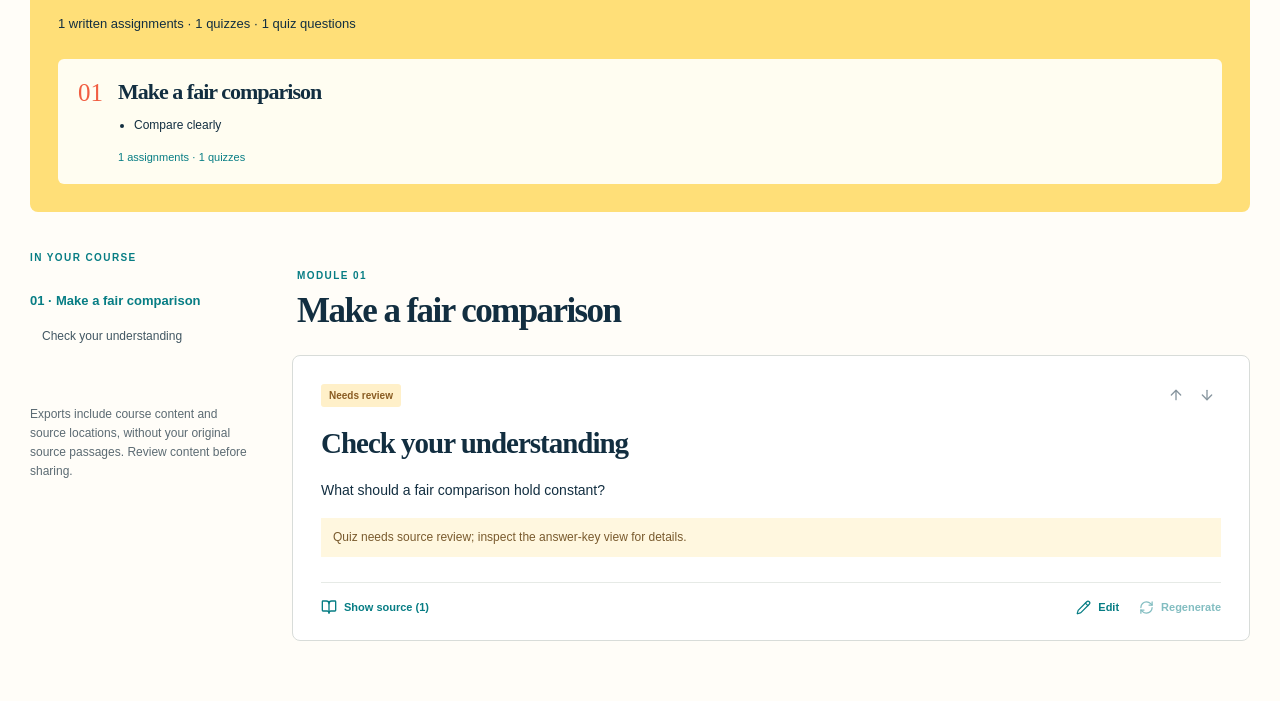
Test: course review safeguards › shows quiz source locations without answer-revealing quotations in learner view
(page scrolled)
Click the button "Show source (1)" at (375, 607), box [321, 599, 429, 615]
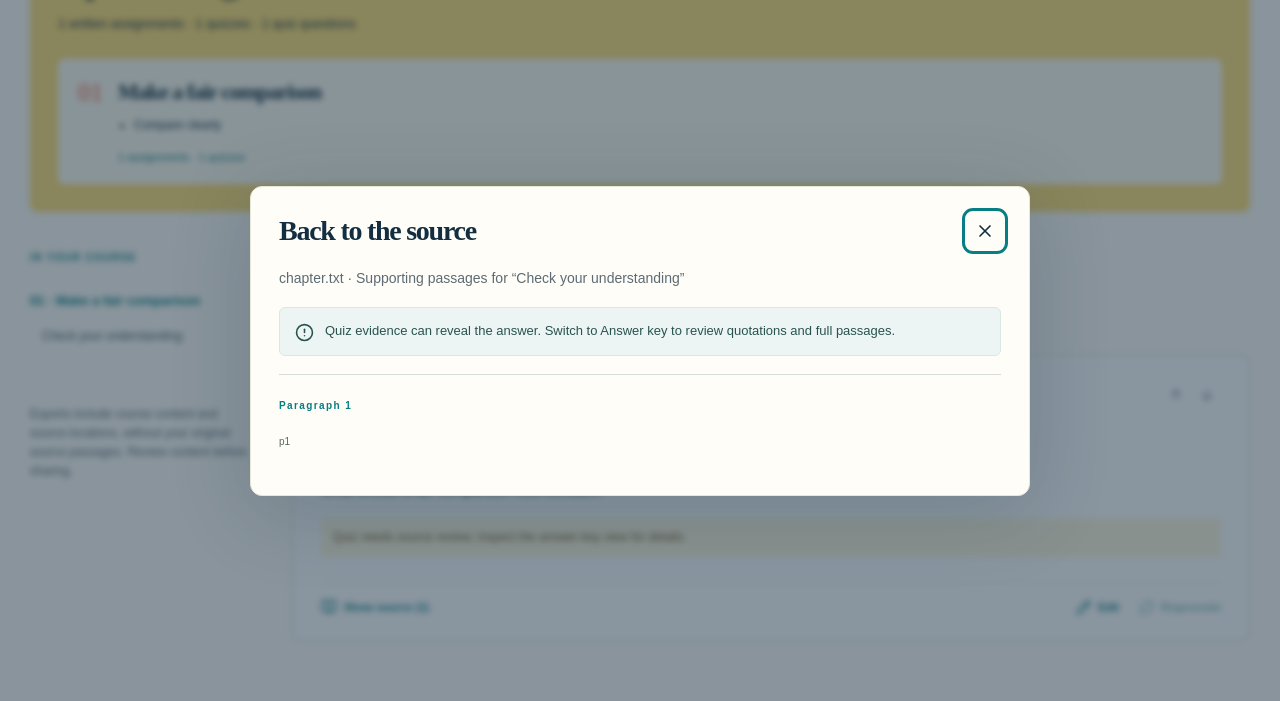
Expected: the text "Paragraph 1" is shown, [279, 400, 352, 411]
Expected: the text "Switch to Answer key" is shown, [325, 323, 895, 338]
